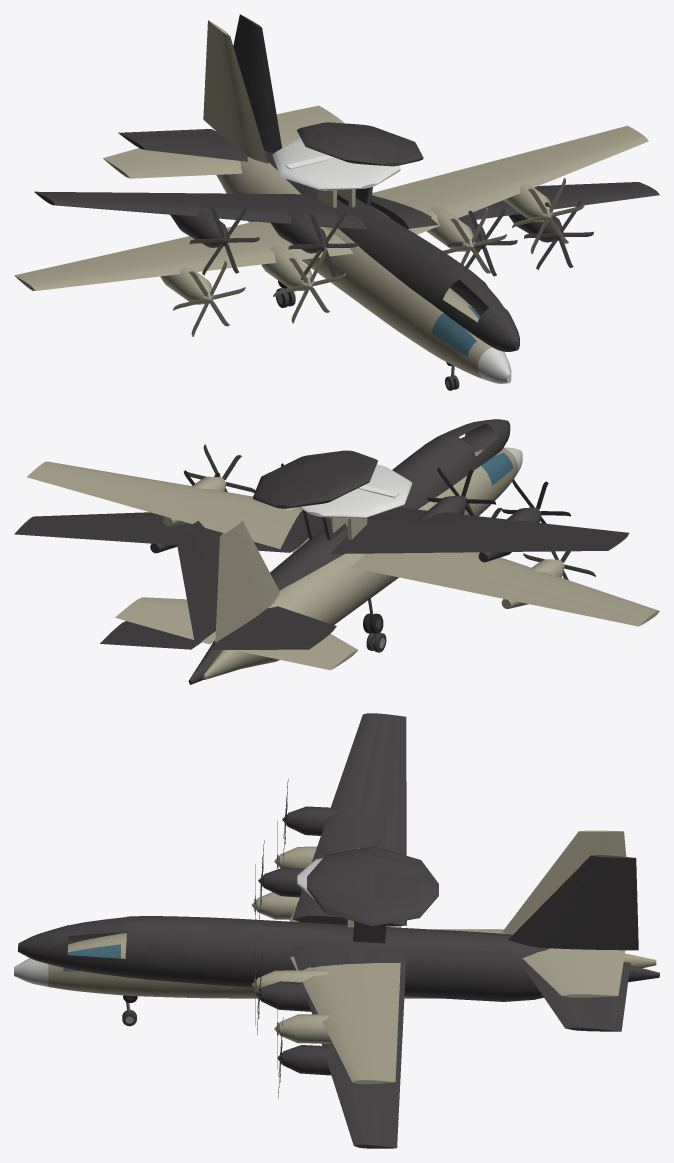
The model's file is aewc__kj_500.glb.
3 renders of one model, top to bottom at view 1: azimuth 30°, elevation 25°; view 2: azimuth 150°, elevation 25°; view 3: azimuth 270°, elevation 25°, orthographic.
Parts seen in each view (by area): view 1: Fuselage_Mesh, Wreck, Radar_Disc_Mesh, Propeller_1_Mesh, Propeller_3_Mesh, Propeller_Mesh, Propeller_2_Mesh; view 2: Wreck, Fuselage_Mesh, Radar_Disc_Mesh, Propeller_3_Mesh; view 3: Wreck, Fuselage_Mesh.
Boxes of the visible parts, <box> form: Fuselage_Mesh: <box>14,20,648,390</box>; Wreck: <box>34,14,659,365</box>; Radar_Disc_Mesh: <box>272,138,400,190</box>; Propeller_1_Mesh: <box>173,260,245,336</box>; Propeller_3_Mesh: <box>512,178,584,254</box>; Propeller_Mesh: <box>273,247,345,323</box>; Propeller_2_Mesh: <box>443,207,506,273</box>; Wreck: <box>14,419,629,684</box>; Fuselage_Mesh: <box>27,447,659,679</box>; Radar_Disc_Mesh: <box>298,464,412,518</box>; Propeller_3_Mesh: <box>186,444,255,492</box>; Wreck: <box>17,713,659,1148</box>; Fuselage_Mesh: <box>14,830,656,1084</box>.
Size of what is drawn, in the model's own units: 38.75 by 11.3 by 34.21.
